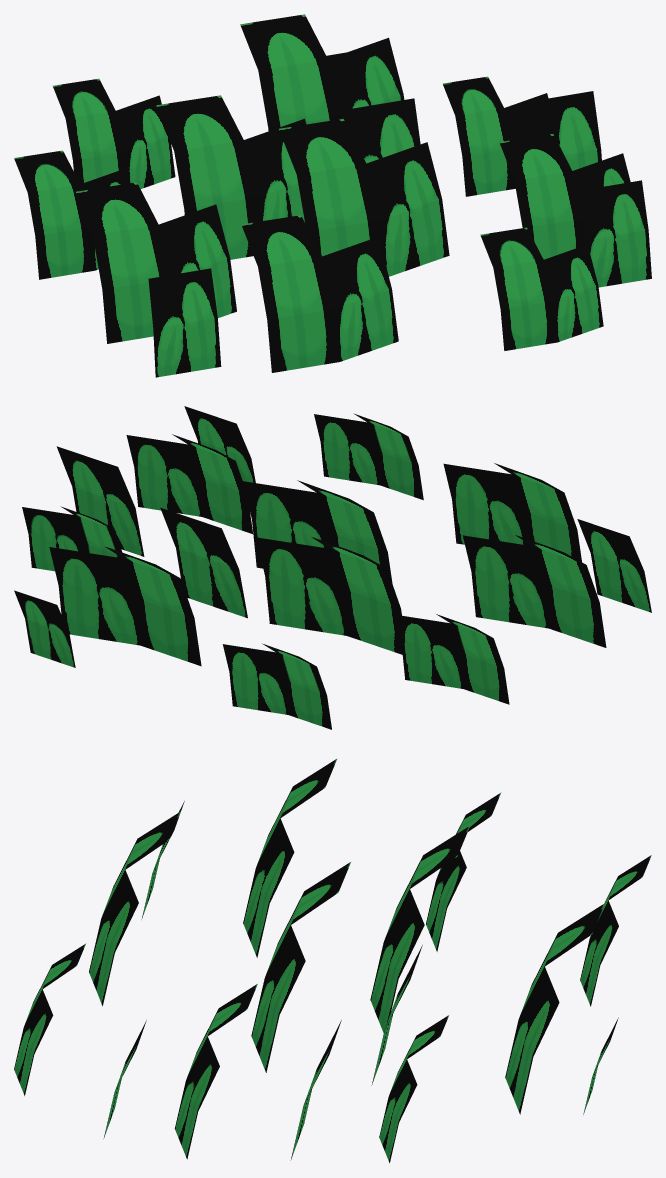
File: grass_1.gltf
3 views of the same model, one above another, from view 1: azimuth 30°, elevation 25°; view 2: azimuth 150°, elevation 25°; view 3: azimuth 270°, elevation 25° (orthographic). The views are drawn at different scales.
Visible parts, largest first — view 1: Grass1Mesh; view 2: Grass1Mesh; view 3: Grass1Mesh.
Part boxes in pixels (bbox=[...]): Grass1Mesh: bbox=[14, 14, 651, 377]; Grass1Mesh: bbox=[14, 406, 651, 729]; Grass1Mesh: bbox=[14, 759, 651, 1162].
Bounding box in the file's own units: 1.59 × 0.3904 × 1.55.
1 material, 1 textured.
